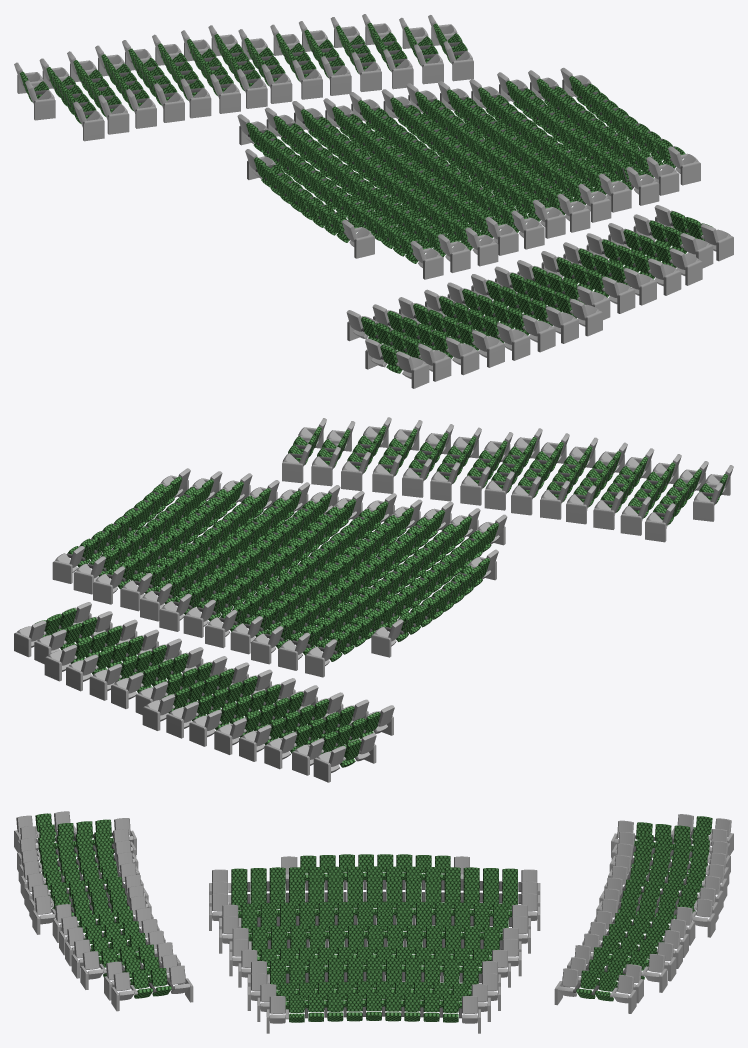
The model's file is m_theater_allchairs.fbx.
3 views of the same model, one above another, from view 1: azimuth 30°, elevation 25°; view 2: azimuth 150°, elevation 25°; view 3: azimuth 270°, elevation 25° (orthographic). The views are drawn at different scales.
Parts seen in each view (by area): view 1: polySurface1; view 2: polySurface1; view 3: polySurface1.
Boxes of the visible parts, bbox=[...] form: polySurface1: bbox=[14, 14, 733, 388]; polySurface1: bbox=[14, 417, 733, 782]; polySurface1: bbox=[14, 811, 733, 1033].
Bounding box in the file's own units: 189 × 13 × 295.
